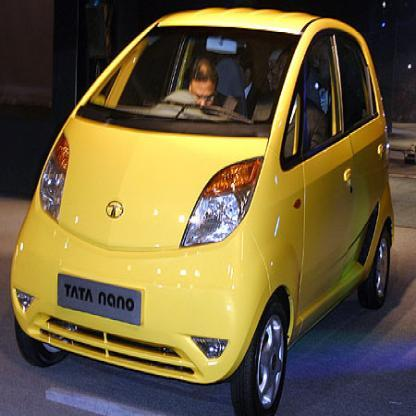car: (6, 3, 402, 392)
